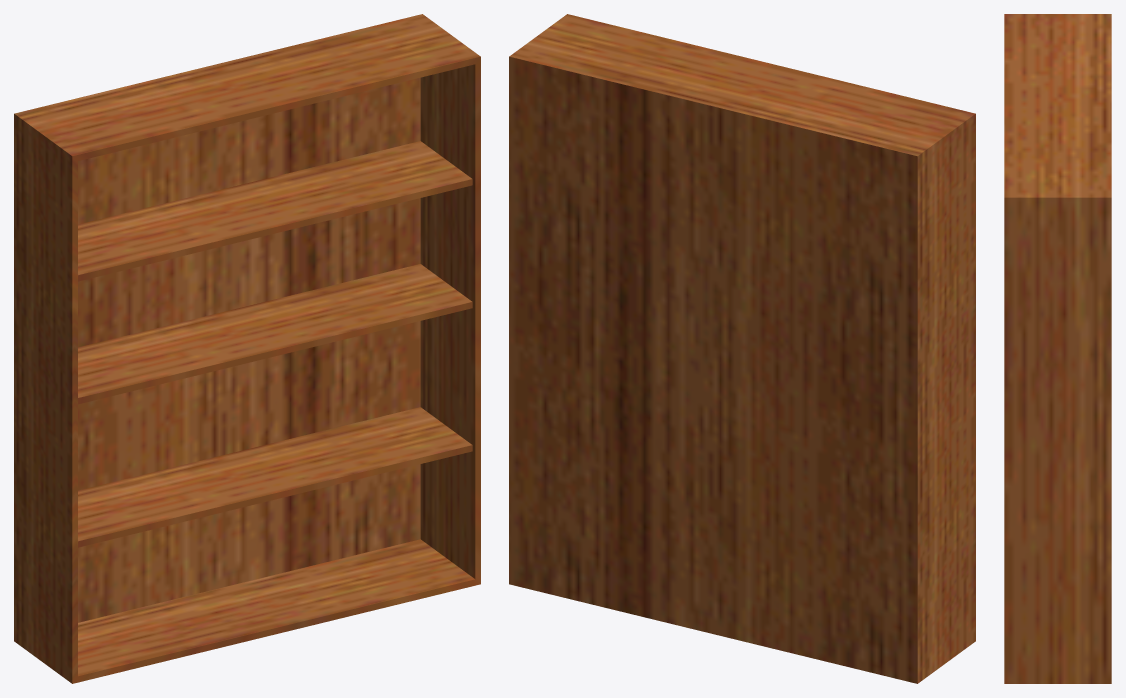
Rendered from book_case_with_back.obj.
3 renders of one model, left to right at view 1: azimuth 30°, elevation 25°; view 2: azimuth 150°, elevation 25°; view 3: azimuth 270°, elevation 25°, orthographic. The views are drawn at different scales.
Parts seen in each view (by area): view 1: book_case_with_back; view 2: book_case_with_back; view 3: book_case_with_back.
Part boxes in pixels (<box>): book_case_with_back: <box>14,14,480,683</box>; book_case_with_back: <box>509,14,975,683</box>; book_case_with_back: <box>1004,14,1111,683</box>.
Size of the model in its own units: 2.03 by 2.5 by 0.5.
